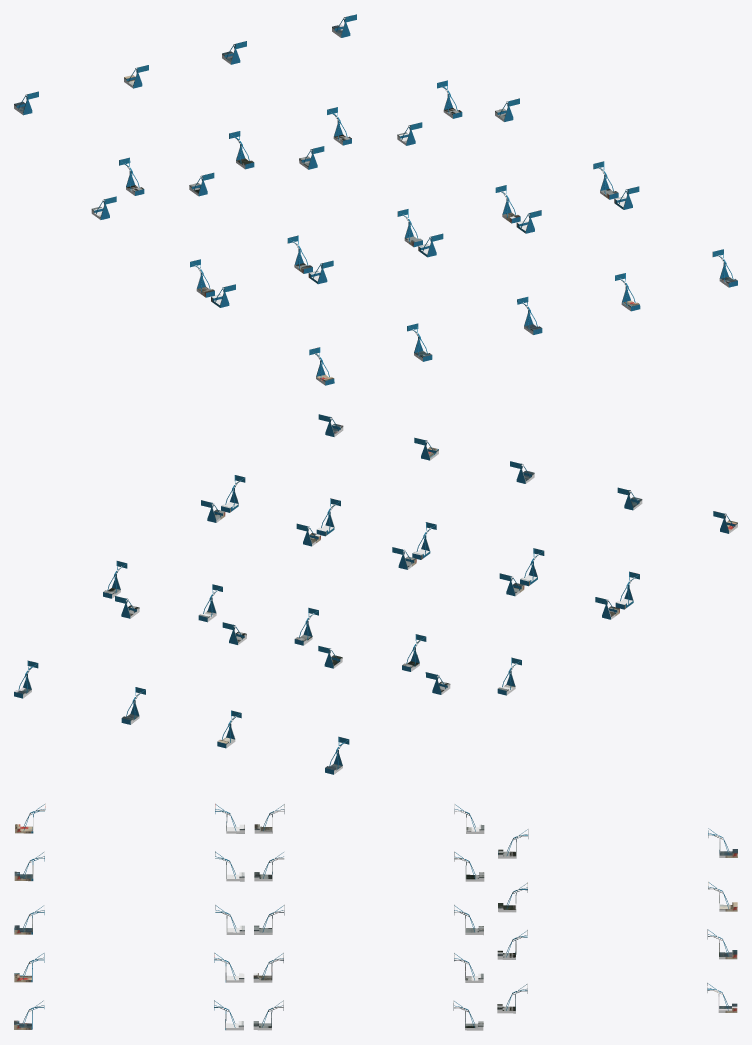
The model's file is lqc2.gltf.
3 renders of one model, top to bottom at view 1: azimuth 30°, elevation 25°; view 2: azimuth 150°, elevation 25°; view 3: azimuth 270°, elevation 25°, orthographic. The views are drawn at different scales.
Size of the model in its own units: 0.068 by 0.00401 by 0.1028.
1 material, 1 textured.
